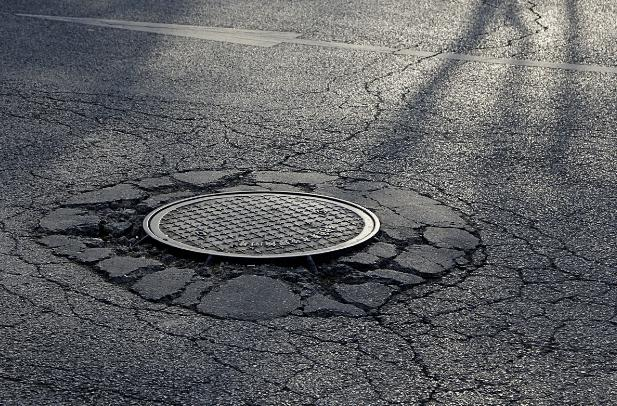circle: (77, 163, 499, 340)
